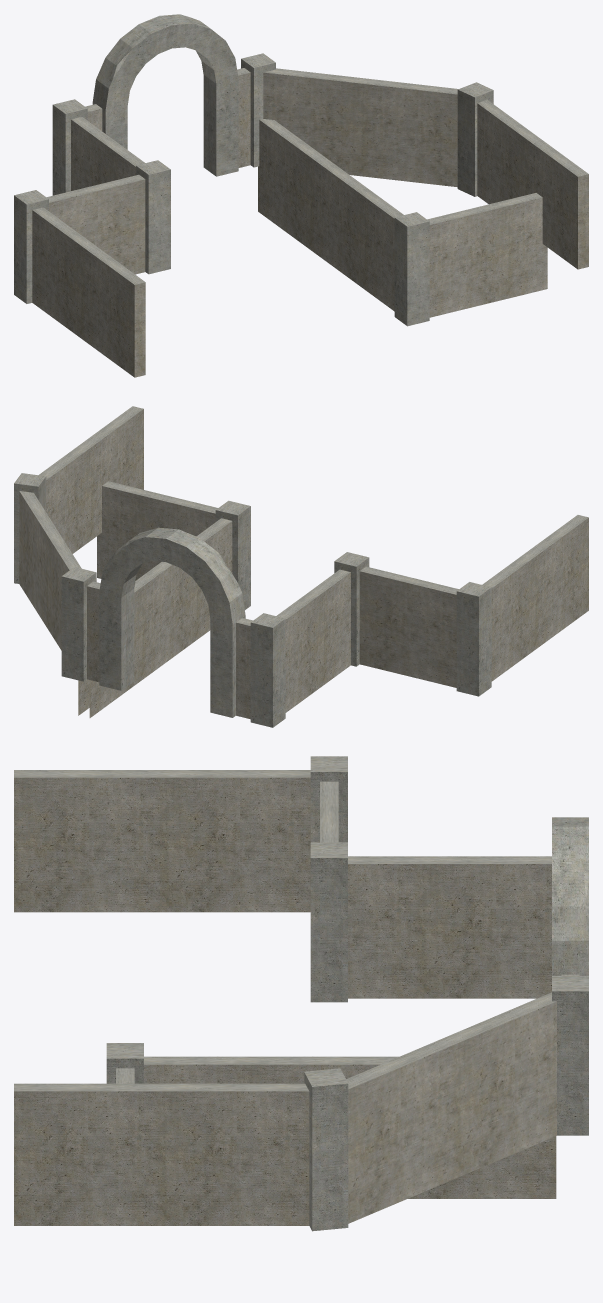
File: poi_all_corral_half_32x32_s01_l0.fbx
3 views of the same model, one above another, from view 1: azimuth 30°, elevation 25°; view 2: azimuth 150°, elevation 25°; view 3: azimuth 270°, elevation 25° (orthographic). The views are drawn at different scales.
Parts seen in each view (by area): view 1: mesh_node; view 2: mesh_node; view 3: mesh_node.
Boxes of the visible parts, x1,y1,x2,y2 form: mesh_node: (14,14,588,377); mesh_node: (14,406,588,727); mesh_node: (14,756,588,1231).
Size of the model in its own units: 21.1 by 9 by 15.5.
